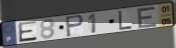1: (87, 12, 97, 35)
8: (39, 18, 57, 41)
E: (136, 6, 159, 30), (17, 20, 39, 43)
L: (118, 10, 134, 31)
P: (65, 14, 86, 38)
